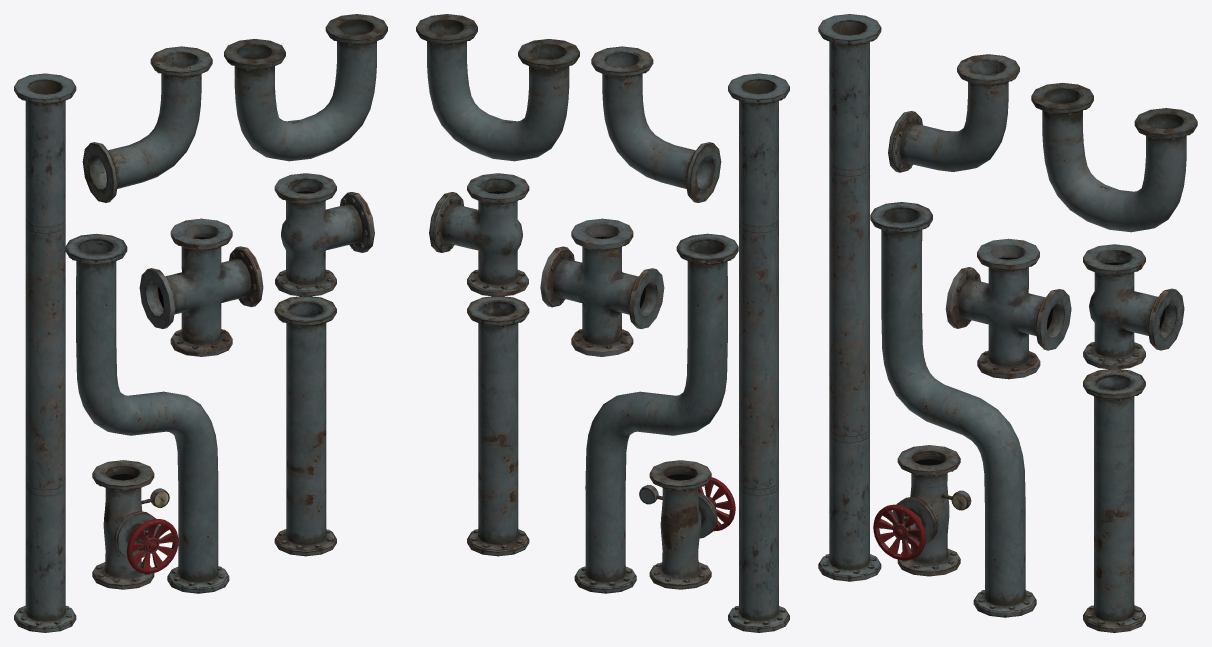
File: modular_industrial_pipes_01.glb
The picture shows the model from 3 angles, left to right: view 1: azimuth 30°, elevation 25°; view 2: azimuth 150°, elevation 25°; view 3: azimuth 330°, elevation 25°; orthographic projection.
Visible parts, largest first — view 1: modular_industrial_pipes_01_pipe02, modular_industrial_pipes_01_pipe03, modular_industrial_pipes_01_pipe05, modular_industrial_pipes_01_pipe01, modular_industrial_pipes_01_pipe07, modular_industrial_pipes_01_pipe04, modular_industrial_pipes_01_pipe06, modular_industrial_pipes_01_pipe08; view 2: modular_industrial_pipes_01_pipe02, modular_industrial_pipes_01_pipe03, modular_industrial_pipes_01_pipe05, modular_industrial_pipes_01_pipe01, modular_industrial_pipes_01_pipe07, modular_industrial_pipes_01_pipe04, modular_industrial_pipes_01_pipe06, modular_industrial_pipes_01_pipe08; view 3: modular_industrial_pipes_01_pipe02, modular_industrial_pipes_01_pipe03, modular_industrial_pipes_01_pipe05, modular_industrial_pipes_01_pipe01, modular_industrial_pipes_01_pipe07, modular_industrial_pipes_01_pipe06, modular_industrial_pipes_01_pipe04, modular_industrial_pipes_01_pipe08.
Part boxes in pixels (x1,y1,x2,y2): modular_industrial_pipes_01_pipe02: (14,73,76,632); modular_industrial_pipes_01_pipe03: (65,233,229,593); modular_industrial_pipes_01_pipe05: (224,14,387,161); modular_industrial_pipes_01_pipe01: (274,296,336,556); modular_industrial_pipes_01_pipe07: (139,218,263,356); modular_industrial_pipes_01_pipe04: (82,46,212,202); modular_industrial_pipes_01_pipe06: (274,173,374,296); modular_industrial_pipes_01_pipe08: (92,460,178,589); modular_industrial_pipes_01_pipe02: (728,73,789,632); modular_industrial_pipes_01_pipe03: (574,233,738,593); modular_industrial_pipes_01_pipe05: (416,14,579,161); modular_industrial_pipes_01_pipe01: (467,296,529,556); modular_industrial_pipes_01_pipe07: (540,218,664,356); modular_industrial_pipes_01_pipe04: (591,46,721,202); modular_industrial_pipes_01_pipe06: (429,173,529,296); modular_industrial_pipes_01_pipe08: (639,460,735,589); modular_industrial_pipes_01_pipe02: (818,14,881,581); modular_industrial_pipes_01_pipe03: (870,202,1036,617); modular_industrial_pipes_01_pipe05: (1031,82,1197,232); modular_industrial_pipes_01_pipe01: (1083,369,1145,632); modular_industrial_pipes_01_pipe07: (945,238,1071,379); modular_industrial_pipes_01_pipe06: (1083,244,1184,369); modular_industrial_pipes_01_pipe04: (888,54,1019,172); modular_industrial_pipes_01_pipe08: (873,445,971,576).
Bounding box in the file's own units: 1.4 × 1.95 × 0.3076.
2 materials, 2 textured.
